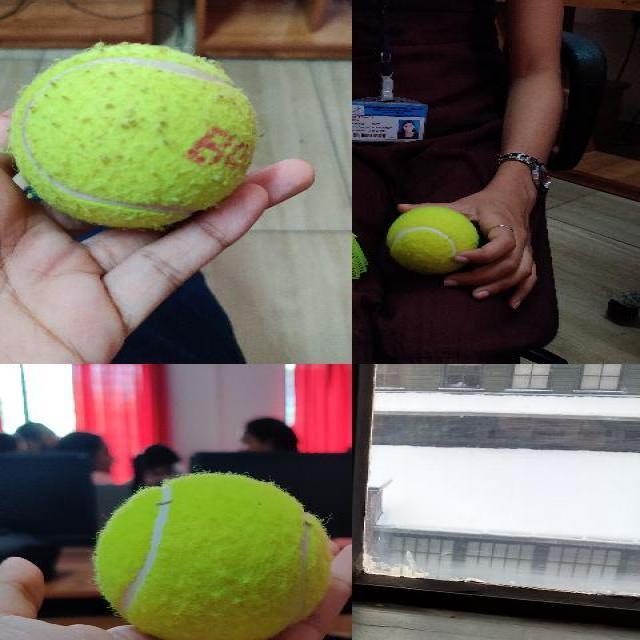tennis-ball: (5, 42, 255, 231), (93, 473, 331, 639), (387, 206, 477, 272)
